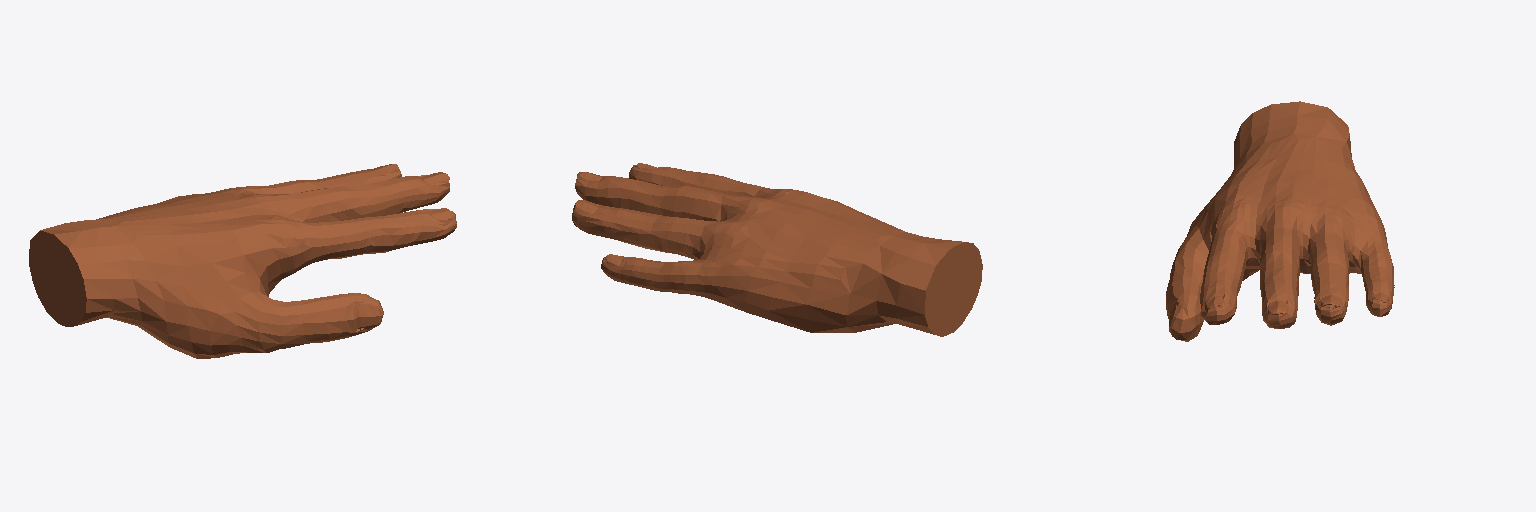
The model's file is hands.obj.
The picture shows the model from 3 angles: view 1: azimuth 30°, elevation 25°; view 2: azimuth 150°, elevation 25°; view 3: azimuth 270°, elevation 25°; orthographic projection.
Visible parts, largest first — view 1: Human; view 2: Human; view 3: Human.
Boxes of the visible parts, x1=… form: Human: x1=29, y1=164, x2=456, y2=358; Human: x1=572, y1=163, x2=982, y2=336; Human: x1=1166, y1=101, x2=1394, y2=341.
Size of the model in its own units: 2.04 by 0.6194 by 1.06.